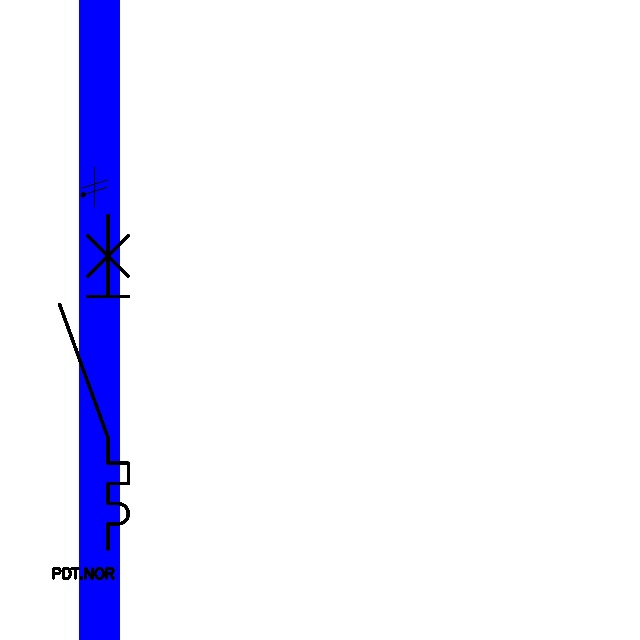interruptor_termomagnetico: (51, 206, 137, 557)
